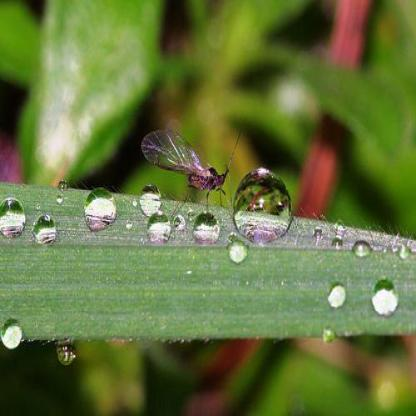aphid: (140, 117, 250, 219)
